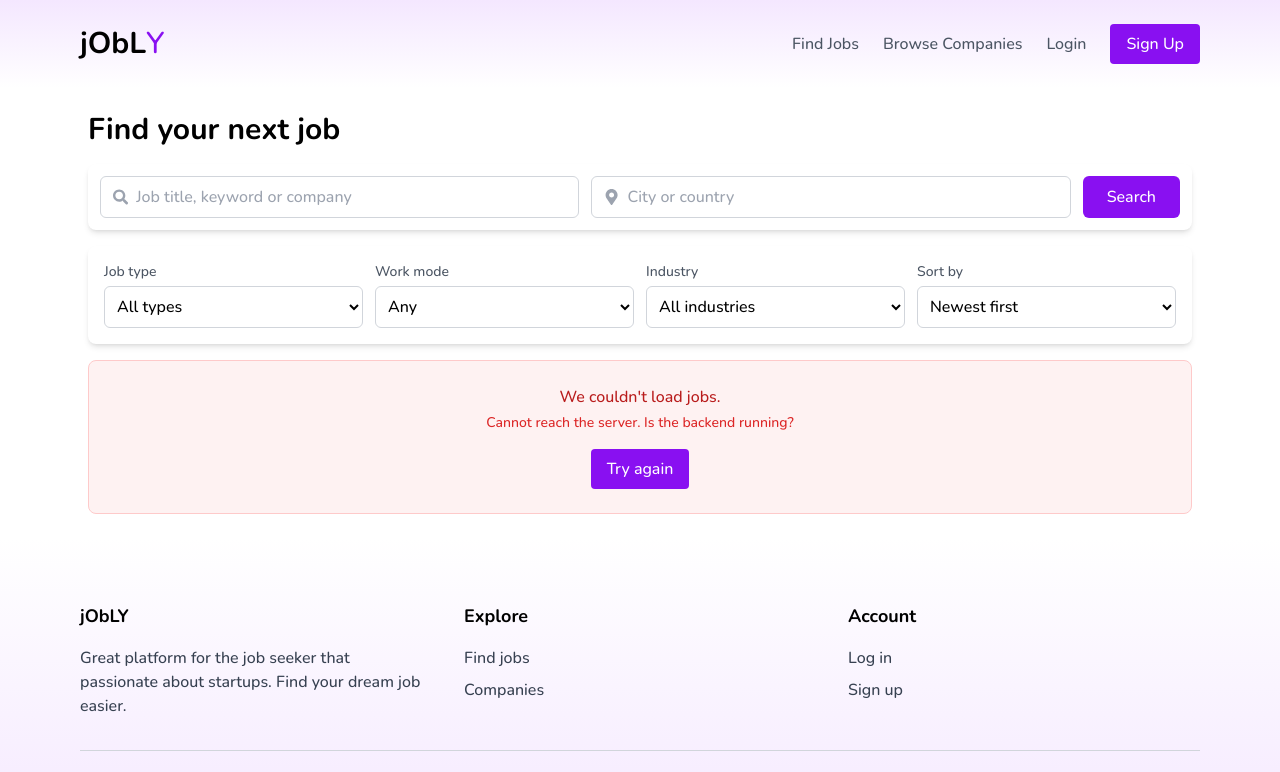
Test: JobSearchPage › shows an error with retry
Check: the message is shown, box [88,360,1192,514]
Click the button "Try again" at (640, 469), box [591,449,689,489]
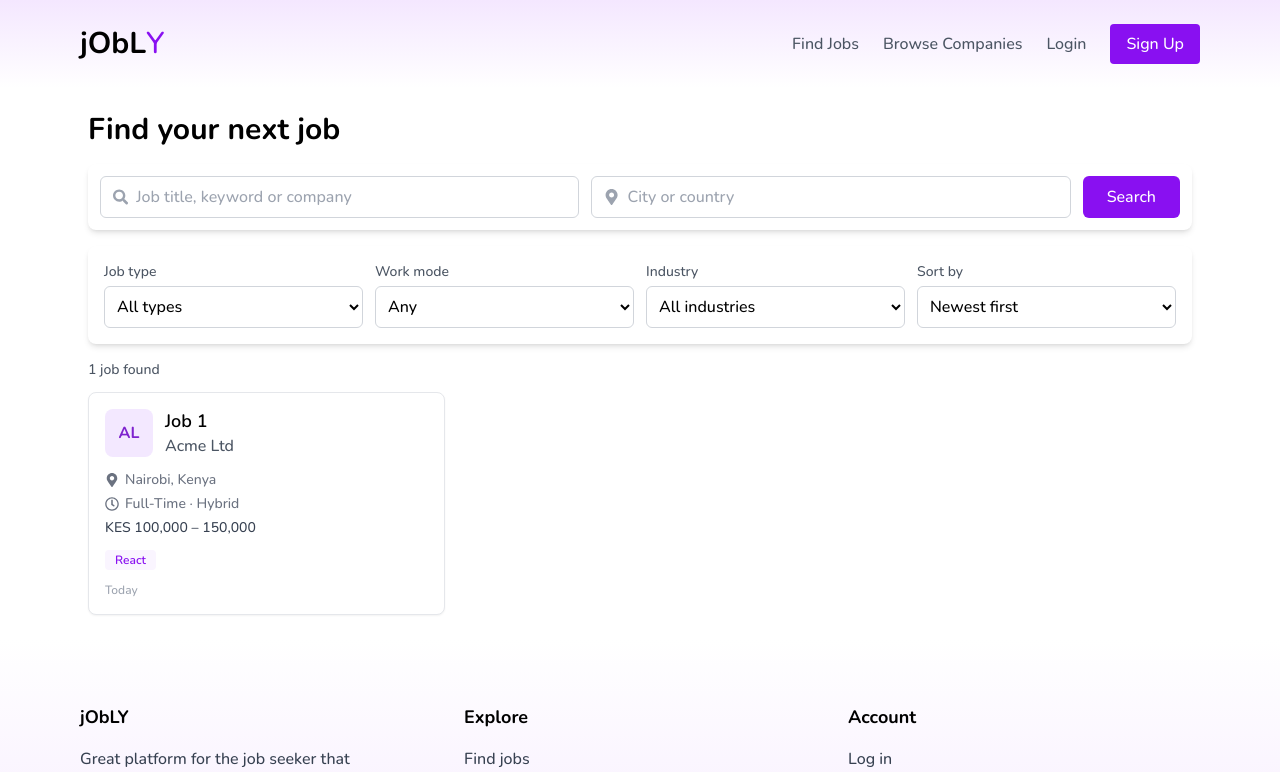
Check: the heading "Job 1" is shown, box [165,409,208,433]
